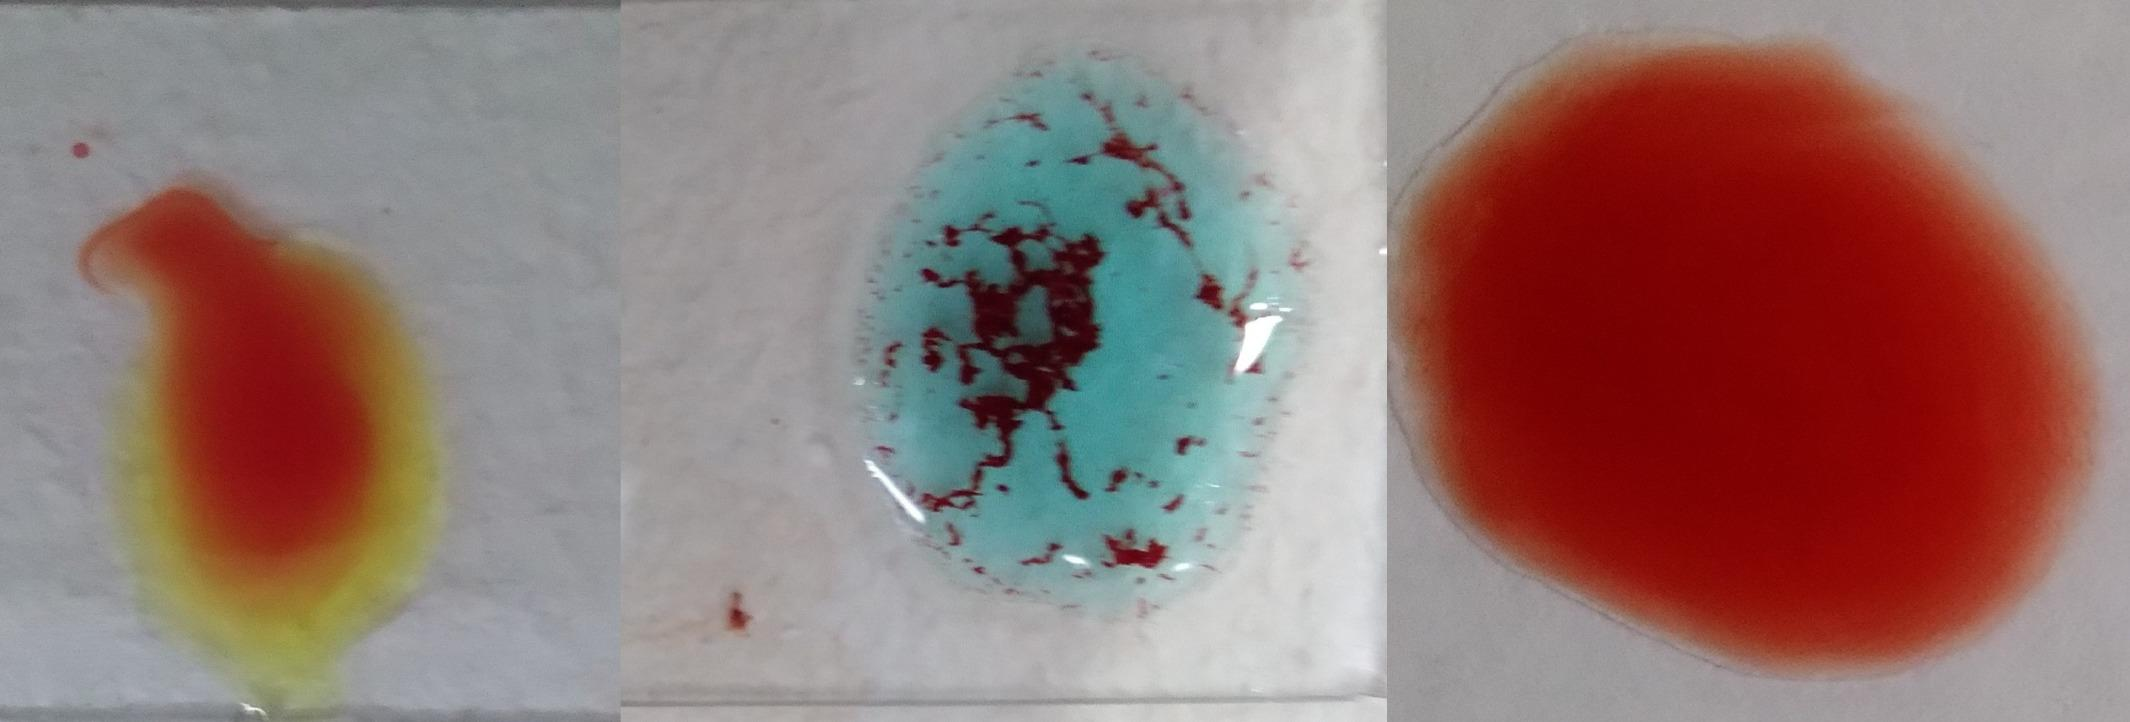A: (860, 50, 1307, 635)
